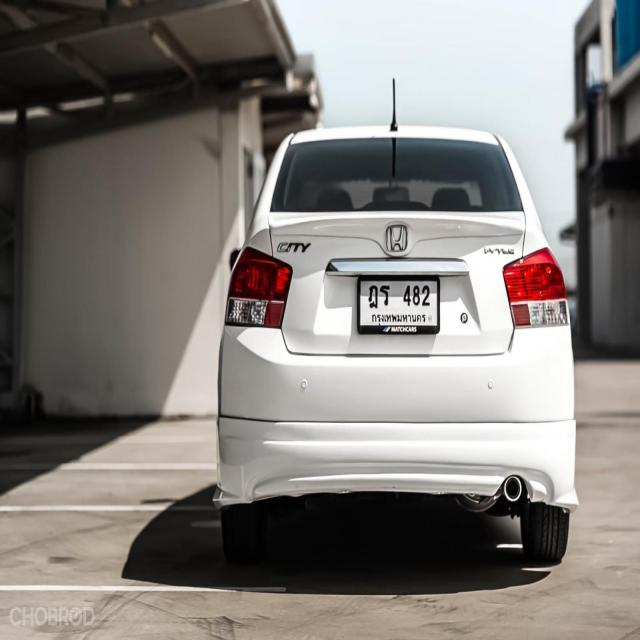license_plate: (357, 267, 441, 342)
